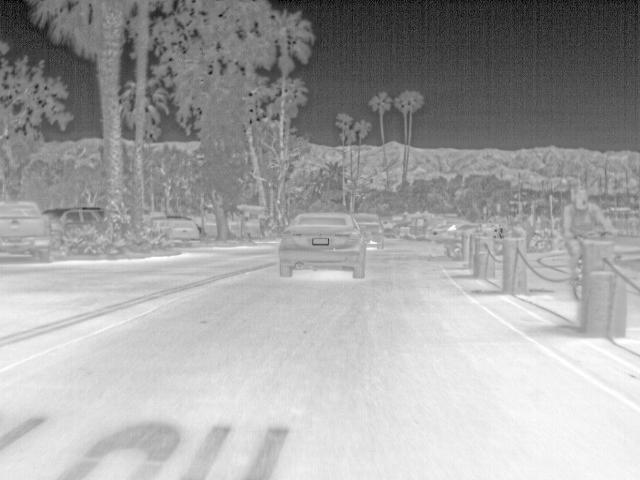car: (275, 211, 363, 278), (0, 198, 55, 262), (41, 206, 104, 234), (154, 218, 201, 248), (348, 212, 383, 244), (434, 221, 480, 243), (406, 215, 434, 240)
person: (562, 181, 615, 272)
